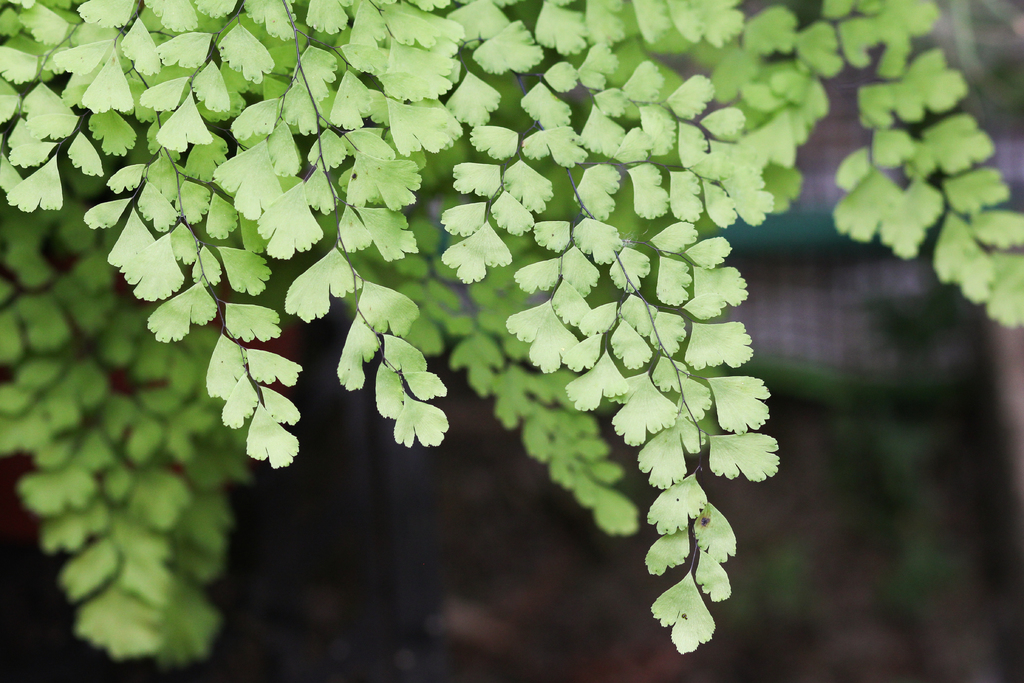Tree: (0, 0, 1023, 654)
